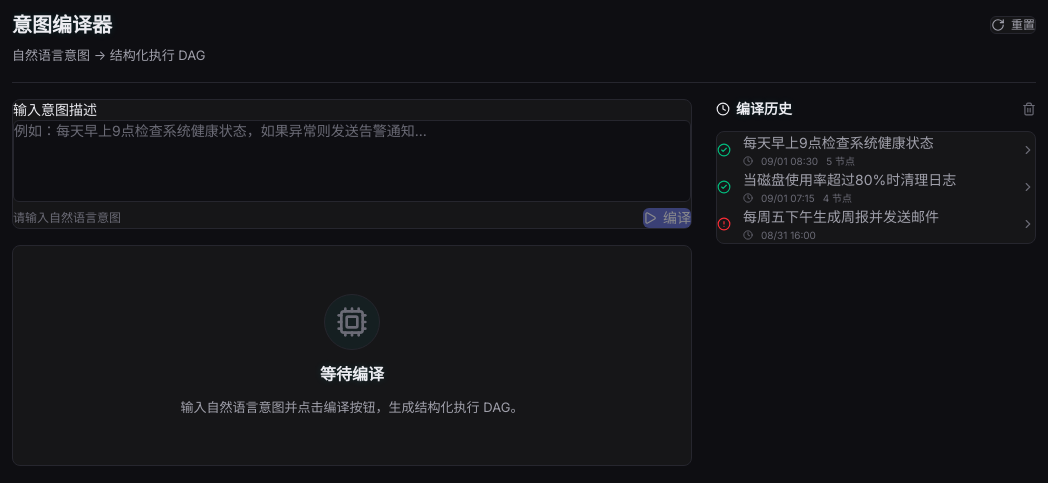
Test: IntentCompiler › state changes › shows loading state during compilation
The image size is (1048, 483).
In the text box with test id "intent-input": [352, 160] box [13,120,691,202], type "测试意图"
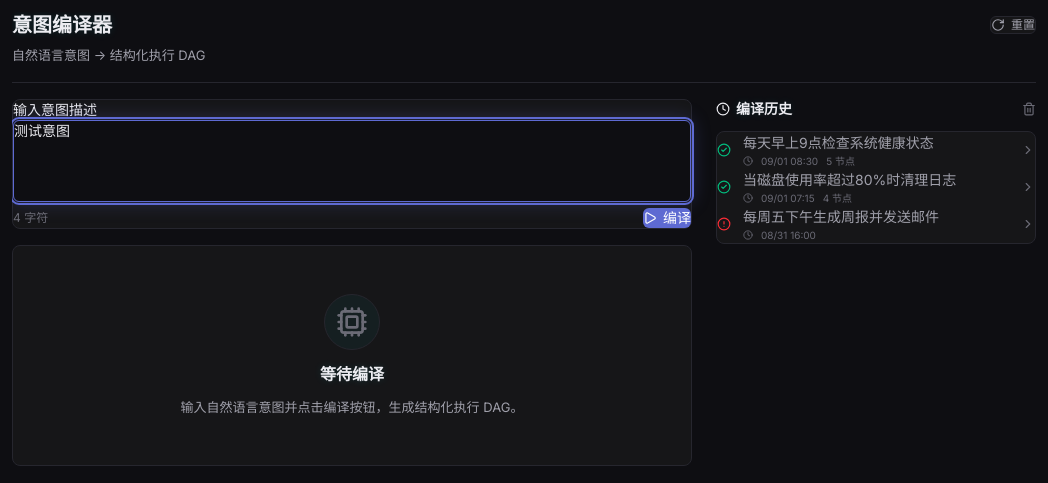
Click the button with test id "compile-btn": [667, 218] box [643,208,691,228]
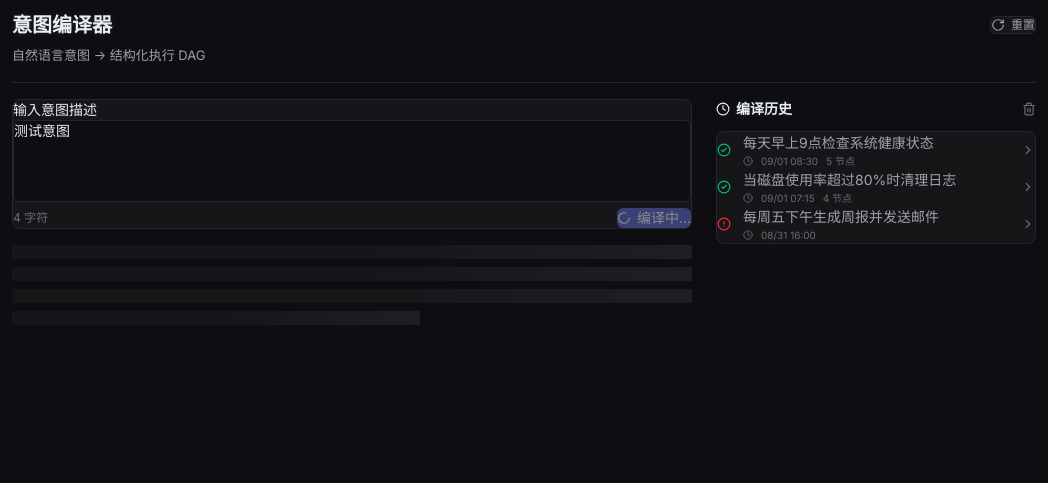
Now the button "编译中..." is shown, box [617,208,691,228]
